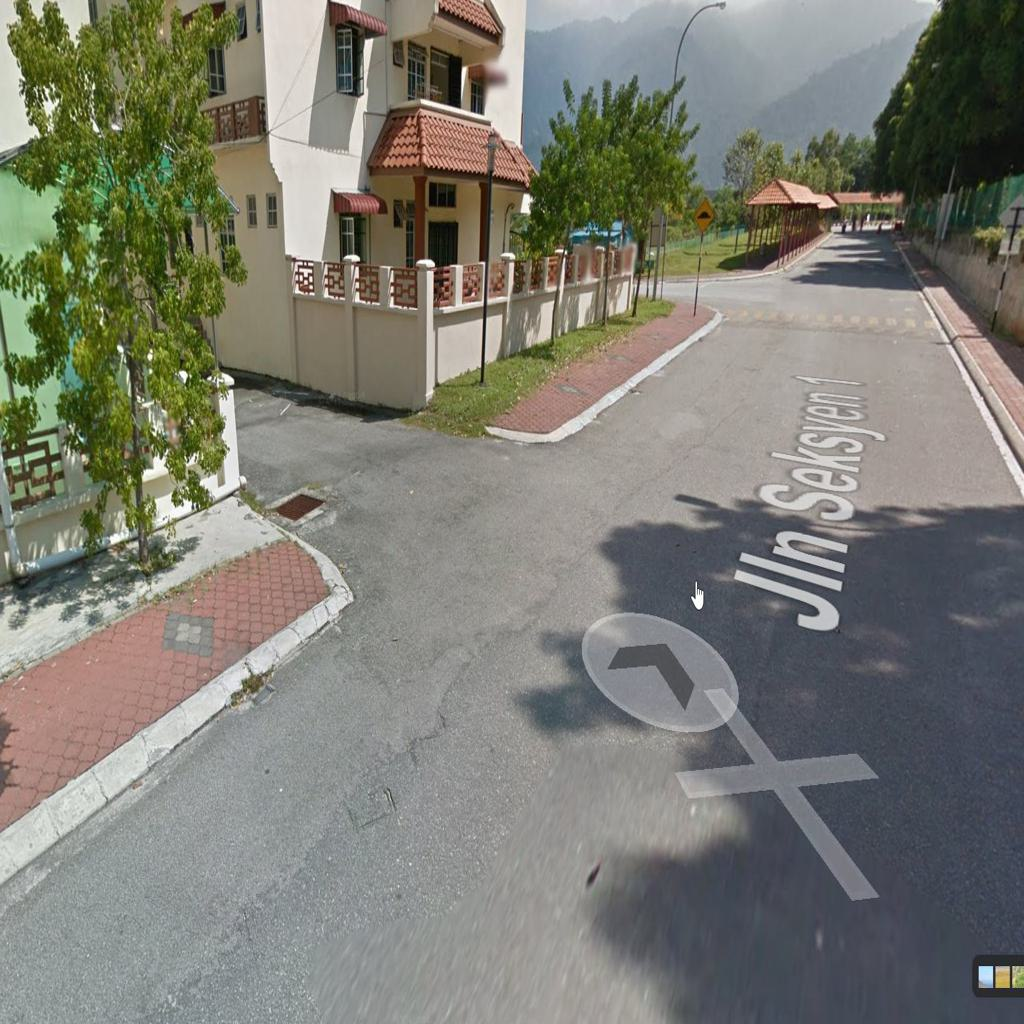Junction: (233, 378, 580, 615), (630, 250, 826, 332)
